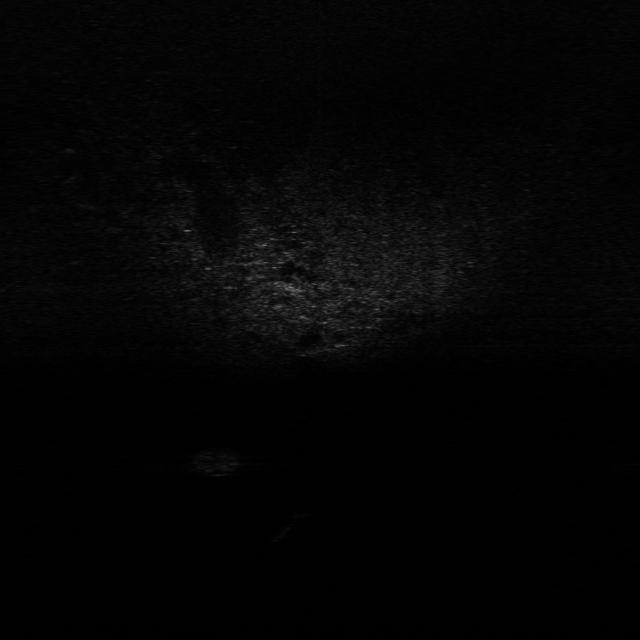circle cage: (188, 440, 248, 479)
cylinder: (270, 507, 310, 545)
